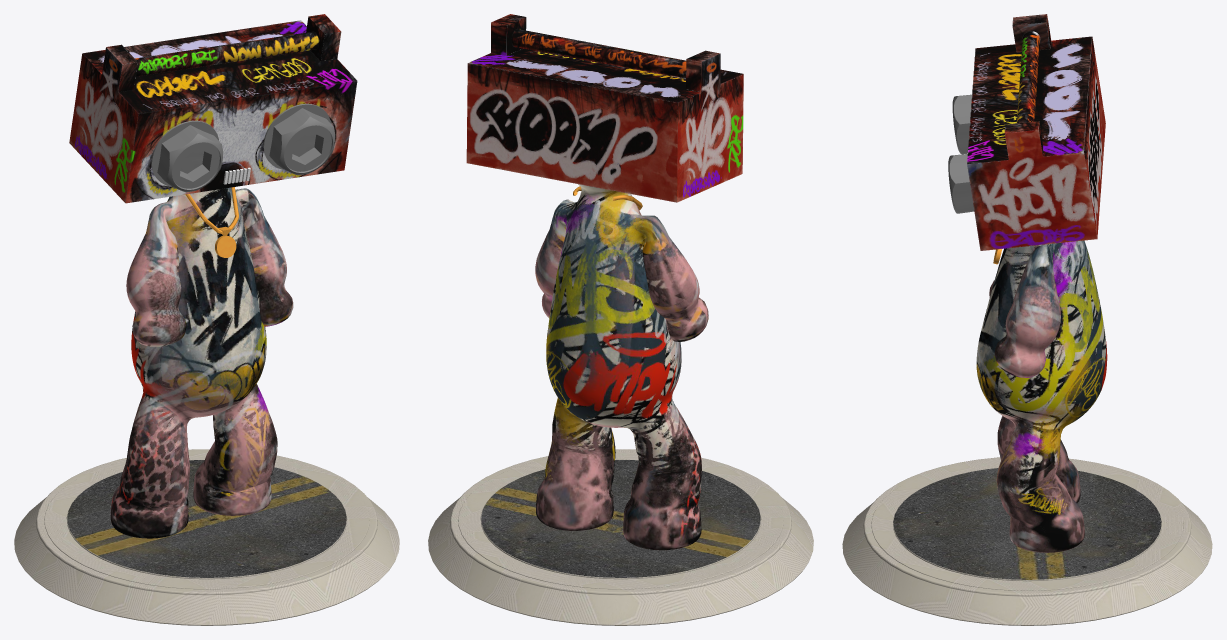
File: 172_sanitized.glb
The picture shows the model from 3 angles, left to right: view 1: azimuth 30°, elevation 25°; view 2: azimuth 150°, elevation 25°; view 3: azimuth 270°, elevation 25°; orthographic projection. The views are drawn at different scales.
Visible parts, largest first — view 1: BBody; view 2: BBody; view 3: BBody.
Boxes of the visible parts, x1,y1,x2,y2 form: BBody: [14, 14, 399, 625]; BBody: [428, 14, 813, 625]; BBody: [842, 14, 1212, 625].
Bounding box in the file's own units: 1.45 × 2.12 × 1.45.
Materials: 7 (5 with a texture image).
